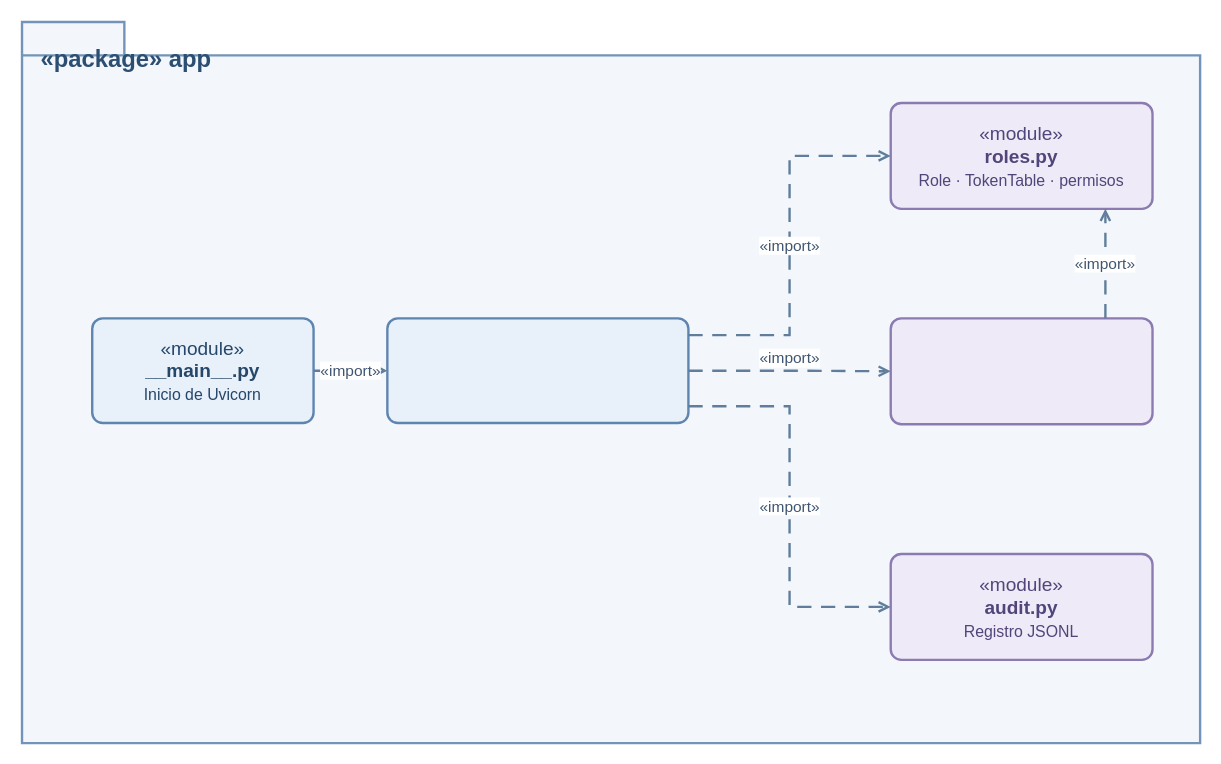
The diagram is 1221 pixels wide and 764 high, and some of its shapes have lost their labels. The box of each missing label's shape, as (x1, y1, x2, y2) in pixels:
«module» server.py FastMCP · tools · middleware: (386, 317, 689, 424)
«module» vault.py Notas · worktrees Git: (889, 317, 1153, 425)
